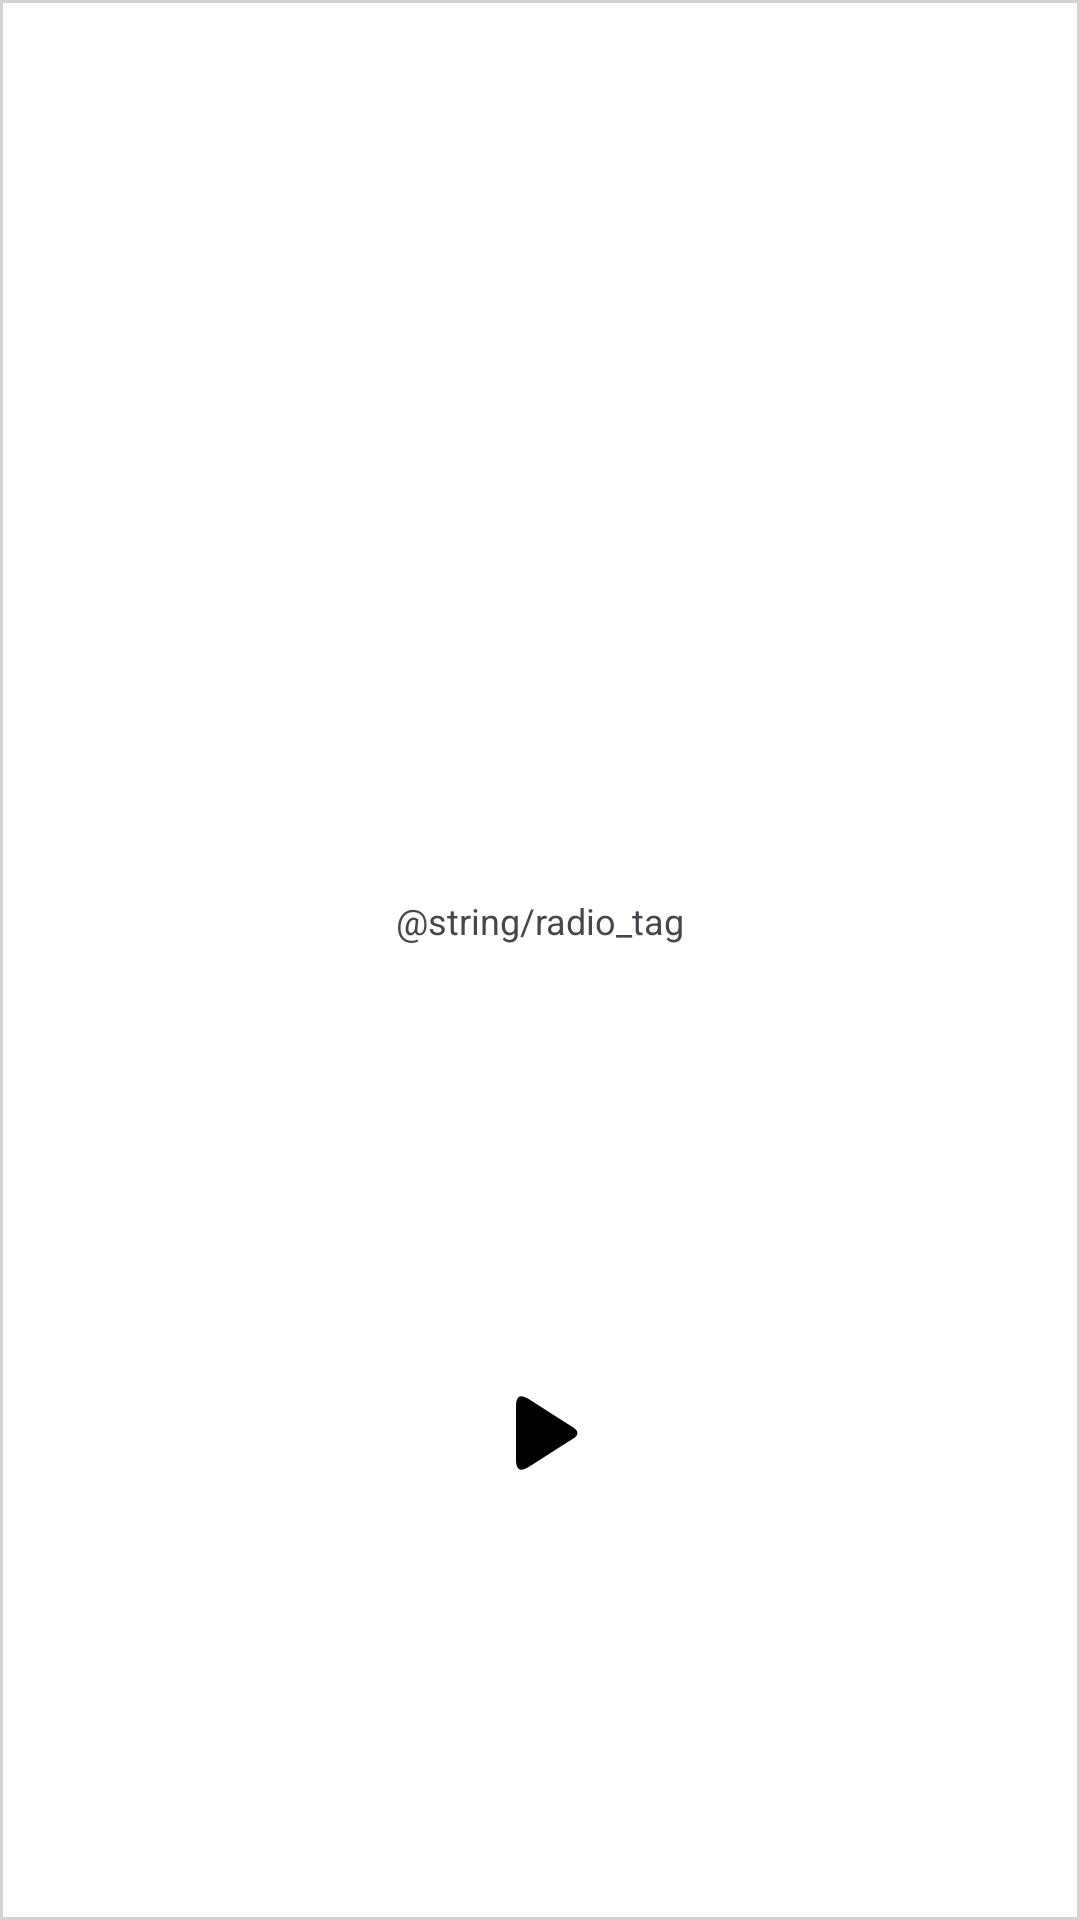

Icon bounding boxes for this 1080×1920 phone screenshot, format (x1, y1, x2, y2):
play: (516, 1396, 578, 1470)
